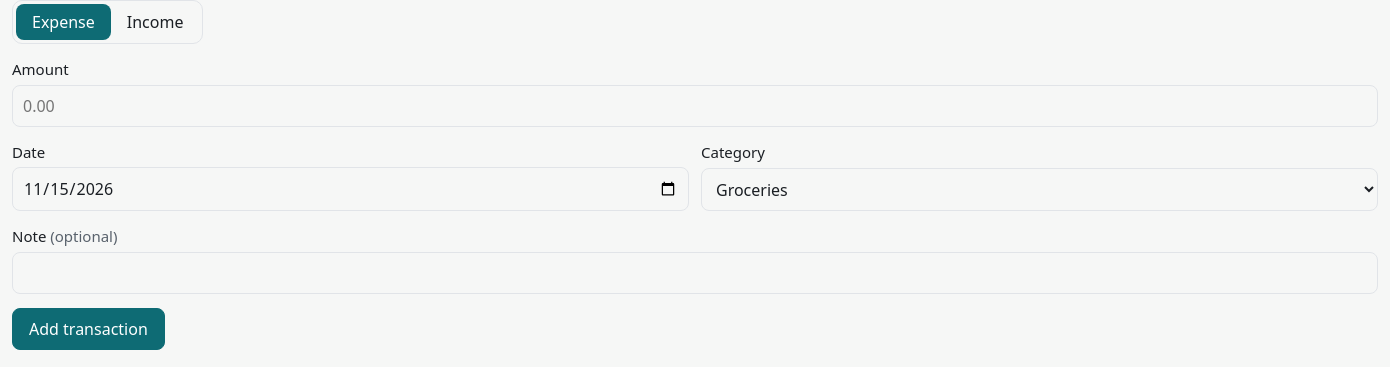
Test case: TransactionForm › clears the amount after a save when nothing new was typed
The image size is (1390, 367).
Type "10" into the field labelled "Amount" at point(695, 106), box [12,84,1378,126]
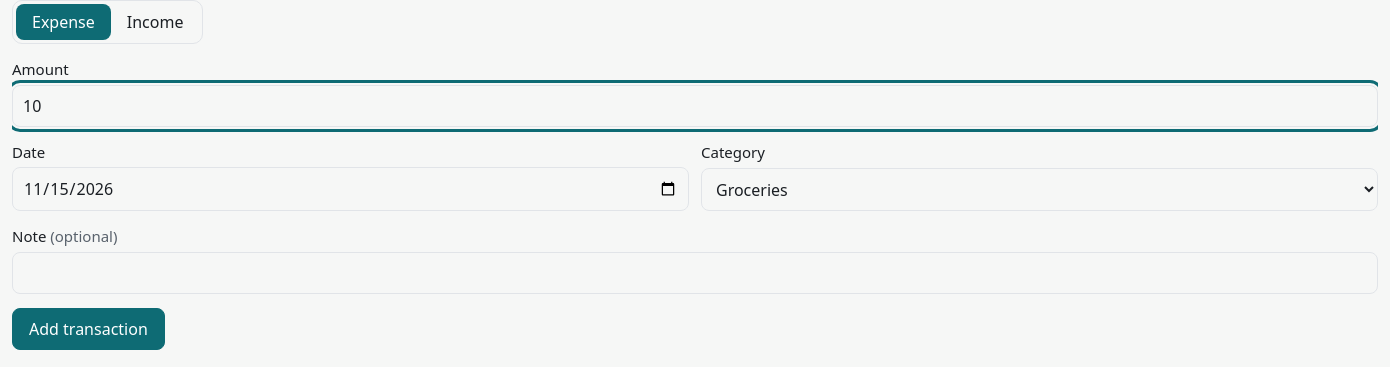
Click the button "Add transaction" at point(88, 328), box [12,308,165,350]
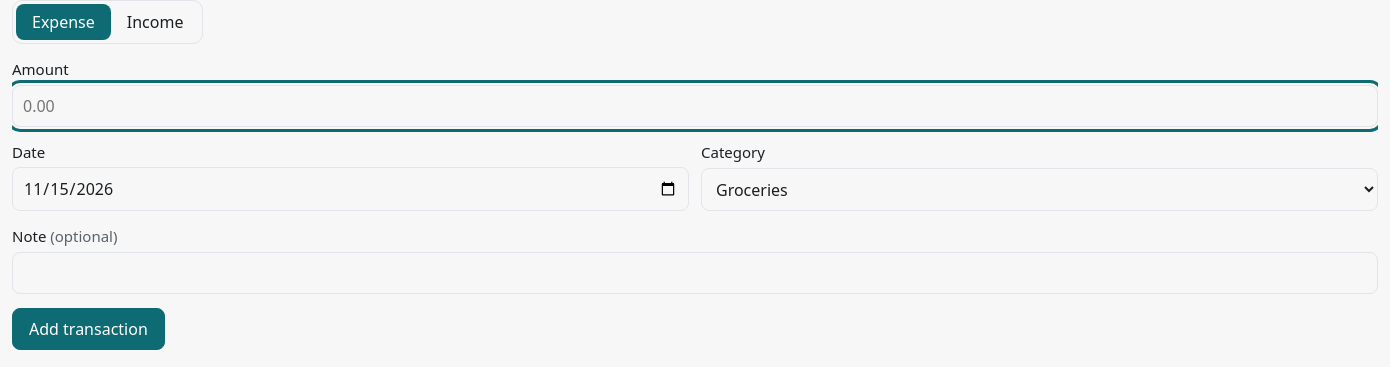
Now the field labelled "Amount" is empty, box [12,84,1378,126]
